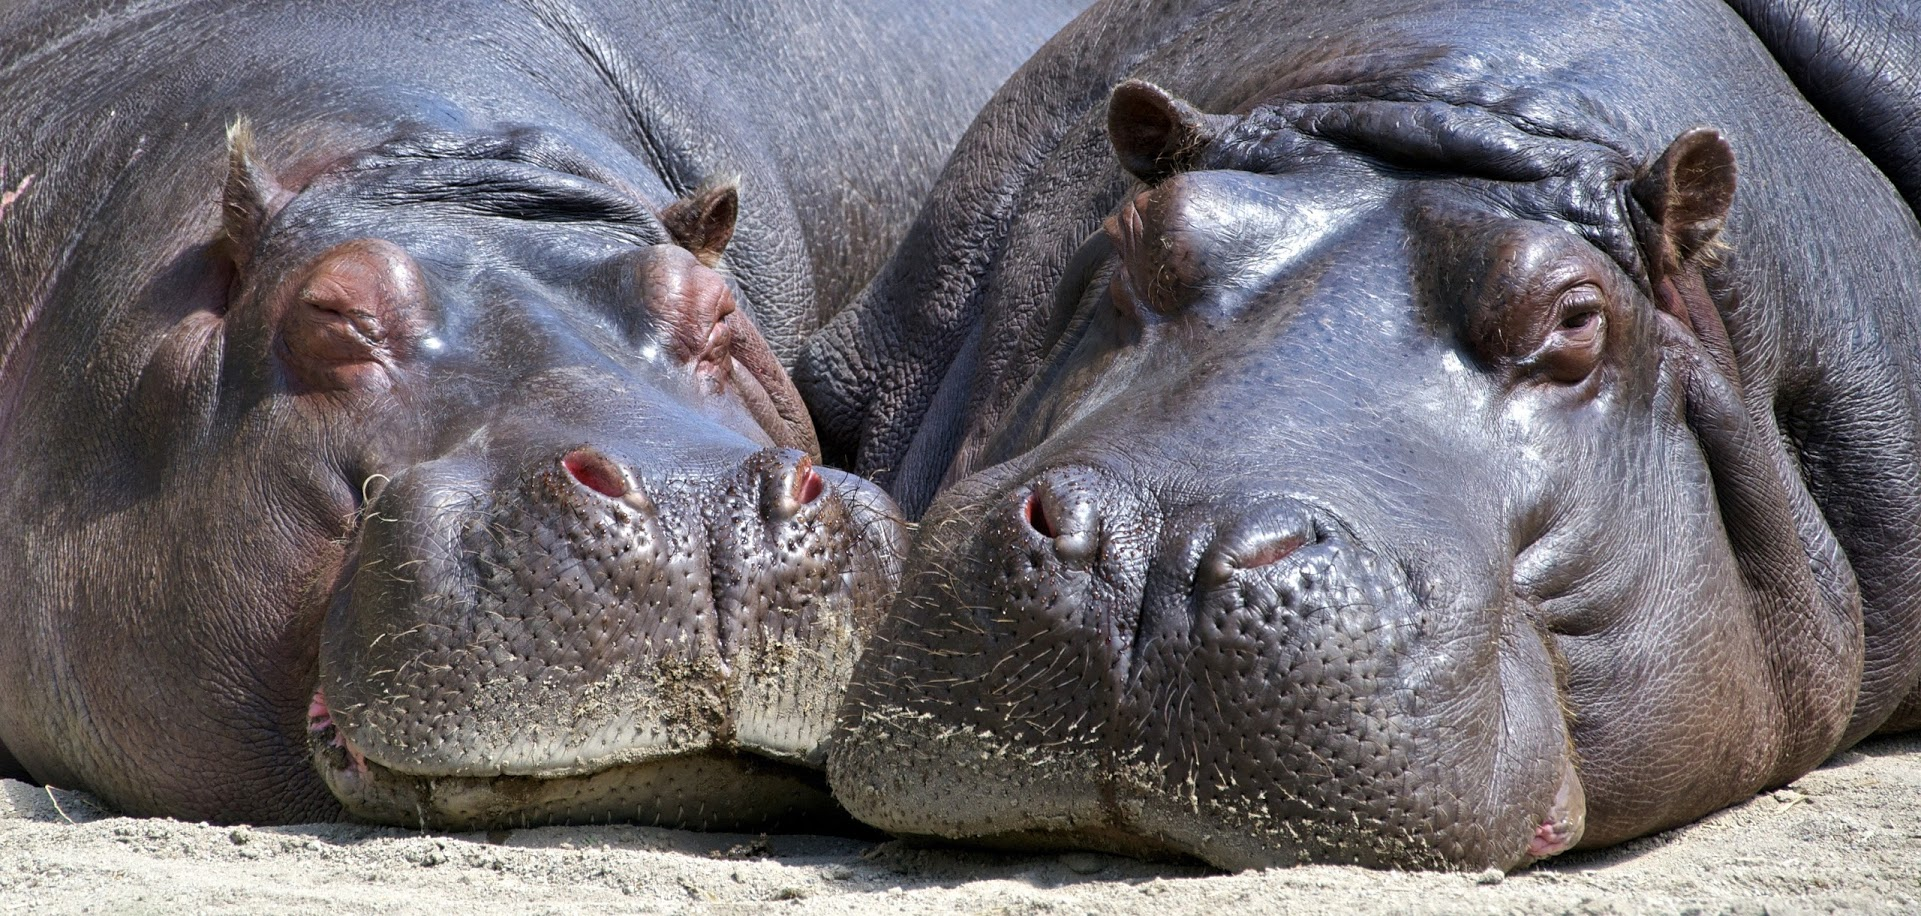Hippopotamus: (813, 20, 1908, 854), (10, 9, 897, 823)
